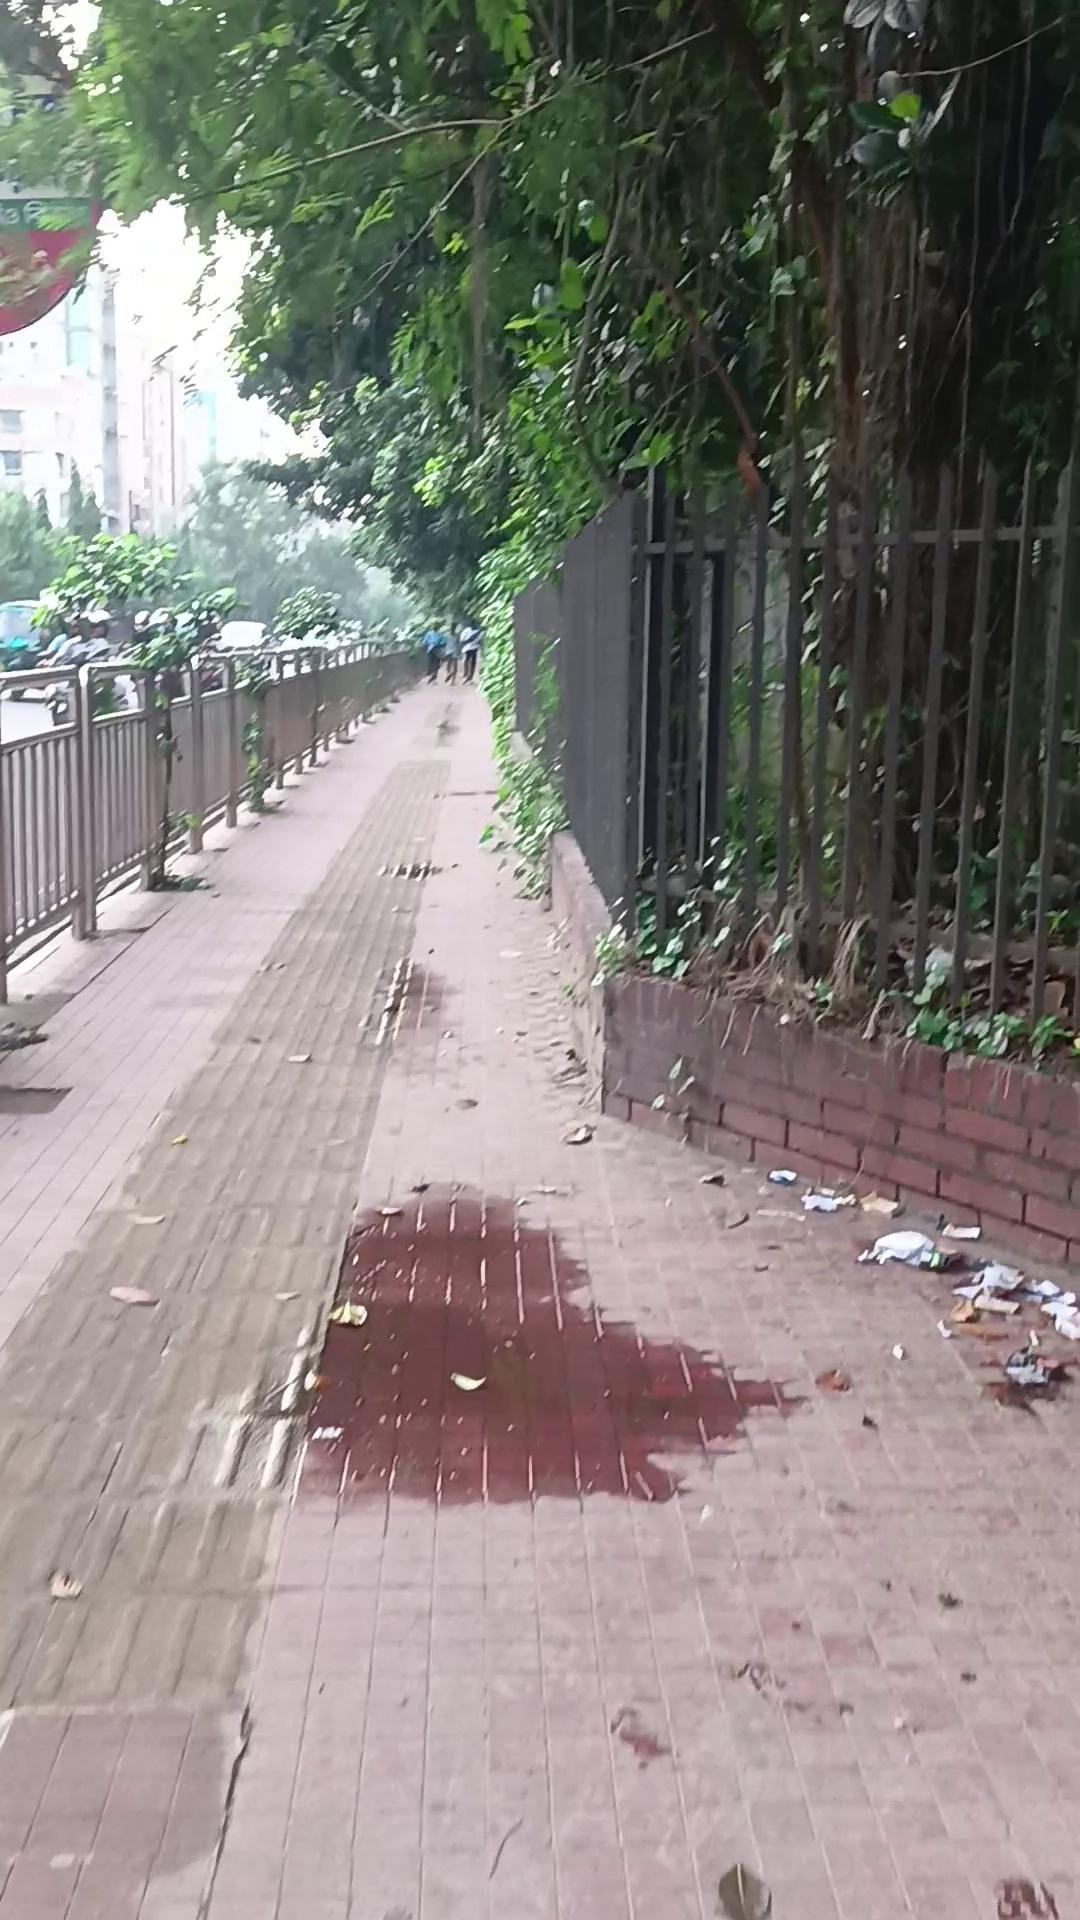Muddy road: (421, 622, 444, 683), (458, 621, 480, 683), (440, 628, 459, 684)
Potted-plant: (3, 692, 1080, 1913)
Railroad-crossing: (260, 1180, 640, 1509)
